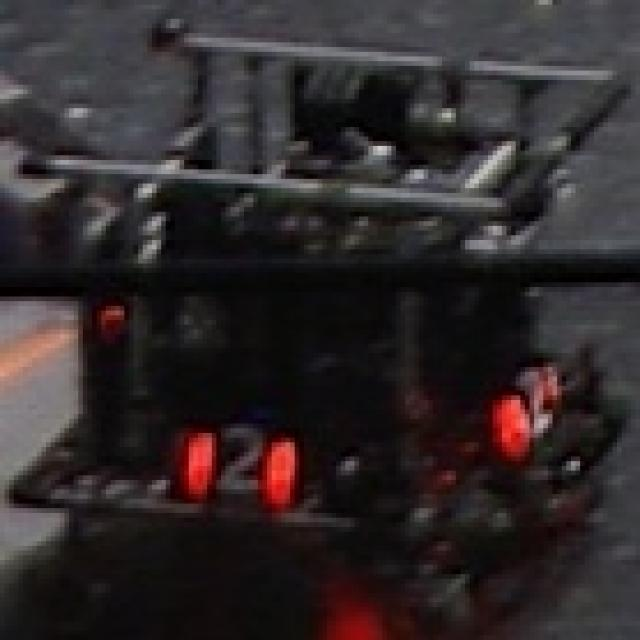R2: (175, 419, 304, 508), (477, 353, 564, 447)
